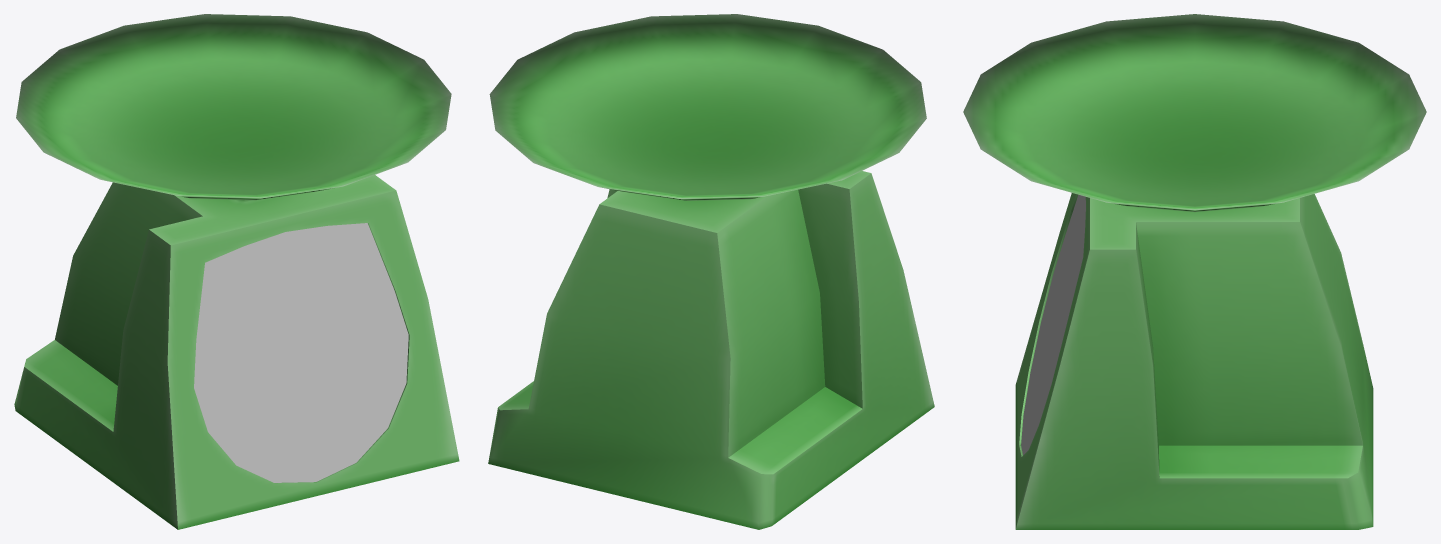
Rendered from KR_Scale_01_01.fbx.
3 renders of one model, left to right at view 1: azimuth 30°, elevation 25°; view 2: azimuth 150°, elevation 25°; view 3: azimuth 270°, elevation 25°, orthographic. The views are drawn at different scales.
Parts seen in each view (by area): view 1: flame01, dish01, glass01; view 2: flame01, dish01; view 3: flame01, dish01, glass01.
Part boxes in pixels (box(x1,y1,x2,y2)): flame01: box(14, 175, 459, 529); dish01: box(16, 14, 451, 200); glass01: box(194, 223, 408, 482); flame01: box(488, 171, 934, 529); dish01: box(489, 14, 926, 200); flame01: box(1015, 193, 1373, 529); dish01: box(963, 14, 1426, 212); glass01: box(1021, 194, 1085, 455).
Bounding box in the file's own units: 20.68 × 17 × 20.68.
